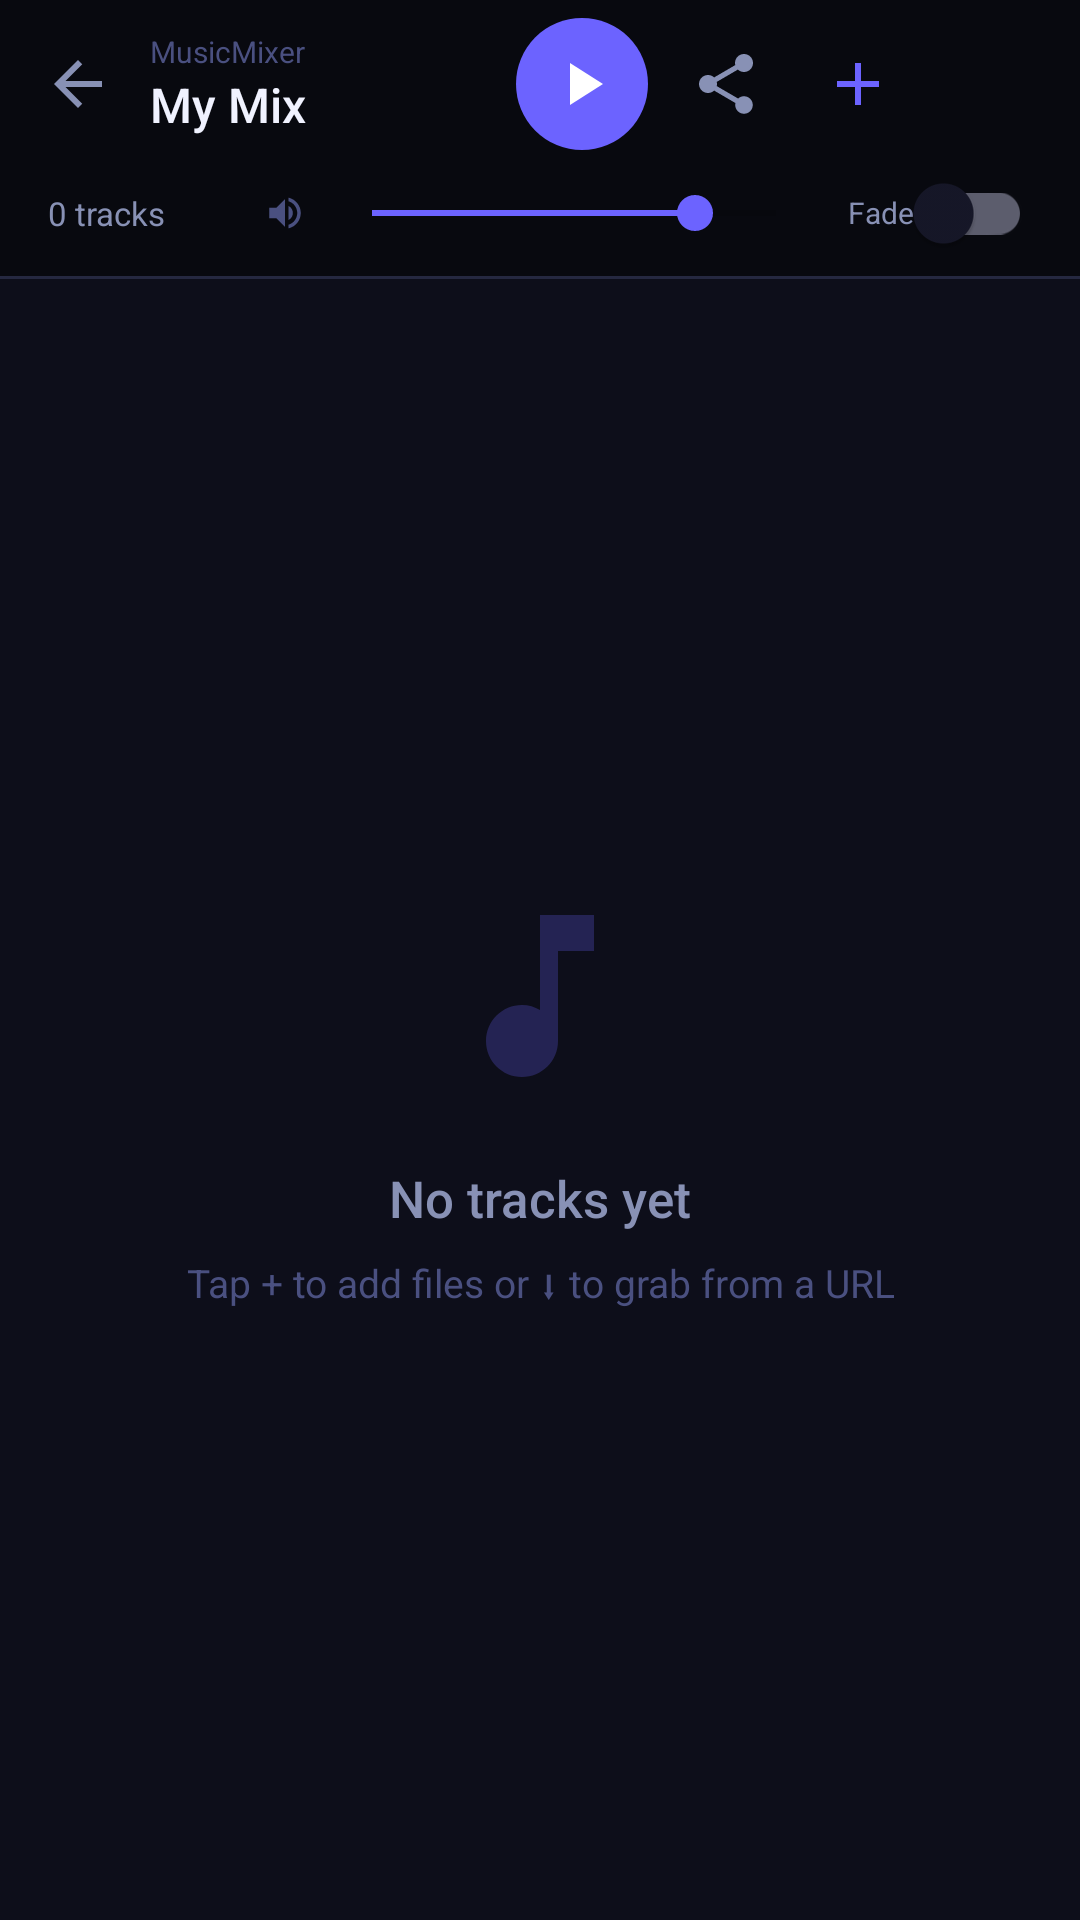

Named icons in this screenshot (1080x1920) and their centers, (x=x, y=y):
Add tracks: (x=858, y=84)
Back to projects: (x=78, y=84)
Play all: (x=582, y=84)
Share mix: (x=726, y=84)
Volume: (x=285, y=213)
